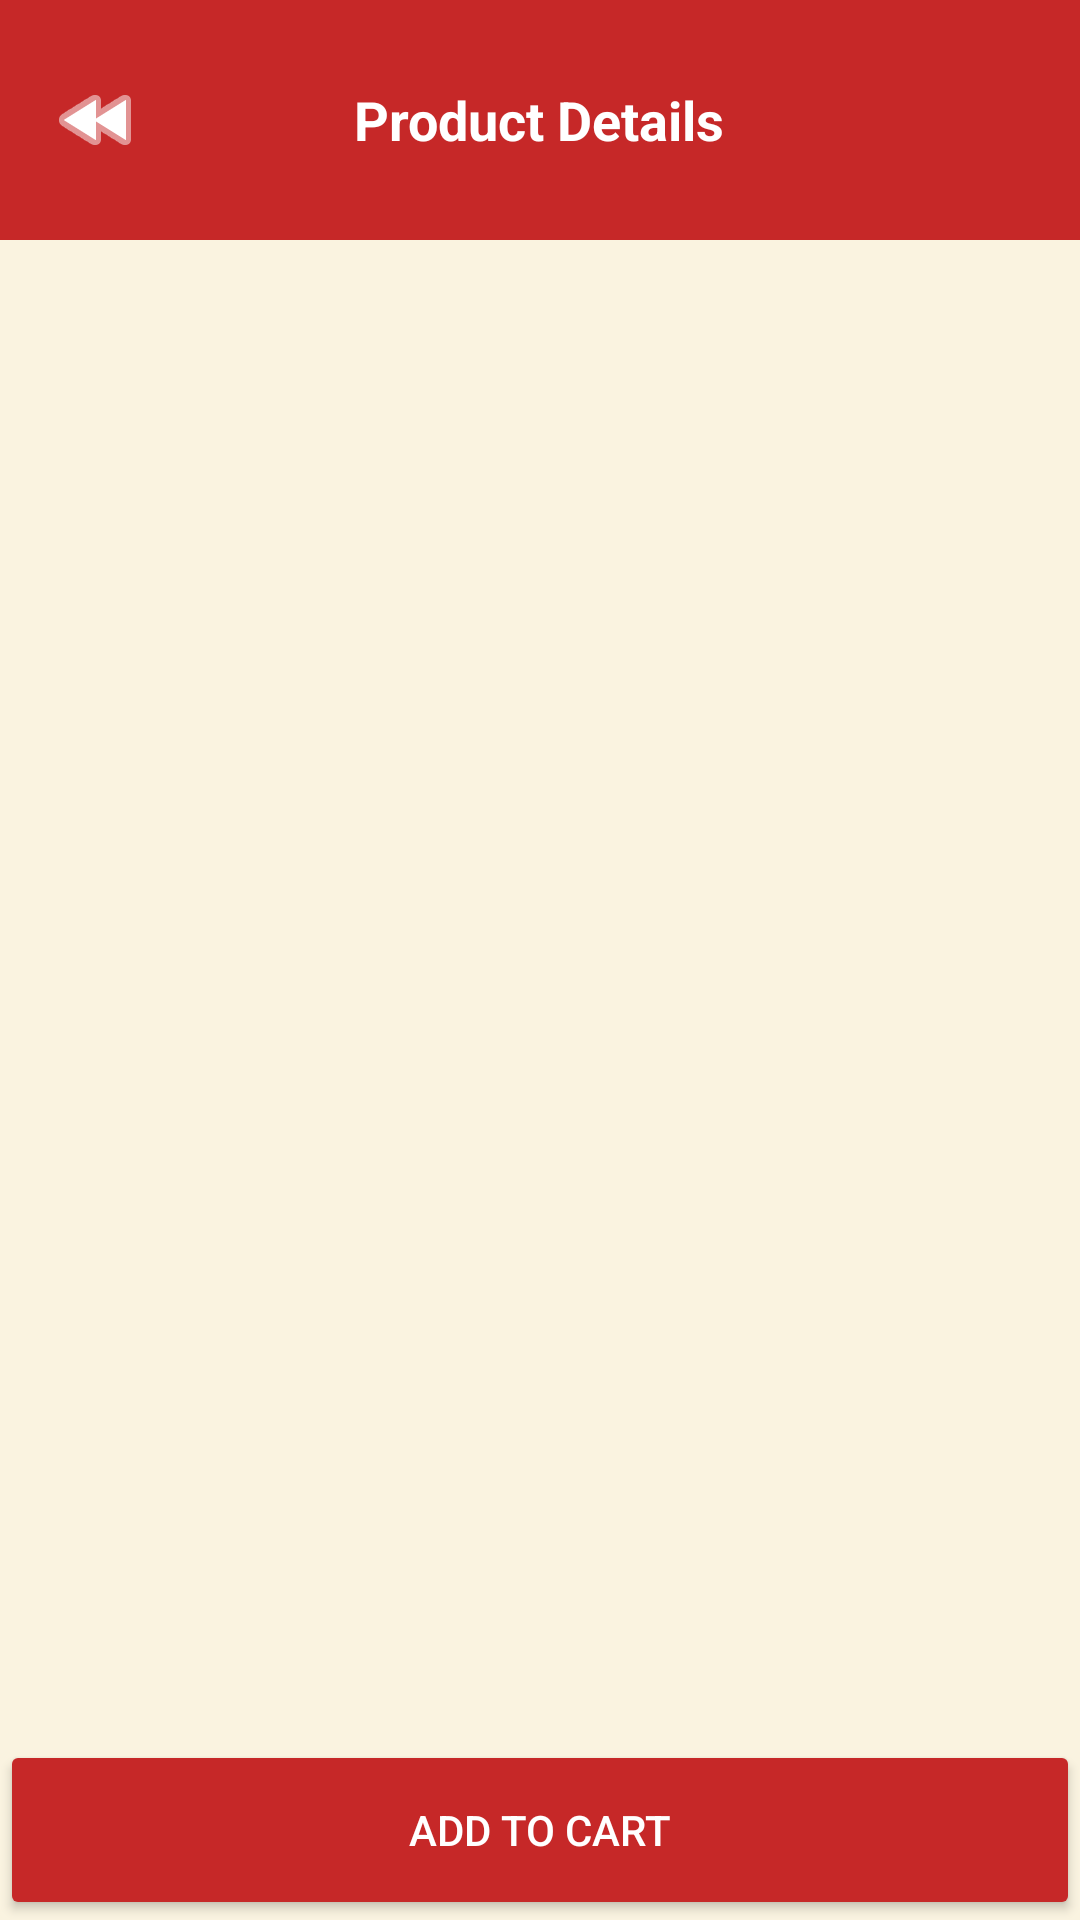

Named icons in this screenshot (1080 × 1920) and their bounding boxes, (x1=x1, y1=y1, x2=x2, y2=y2):
rew: (x1=59, y1=95, x2=131, y2=145)
